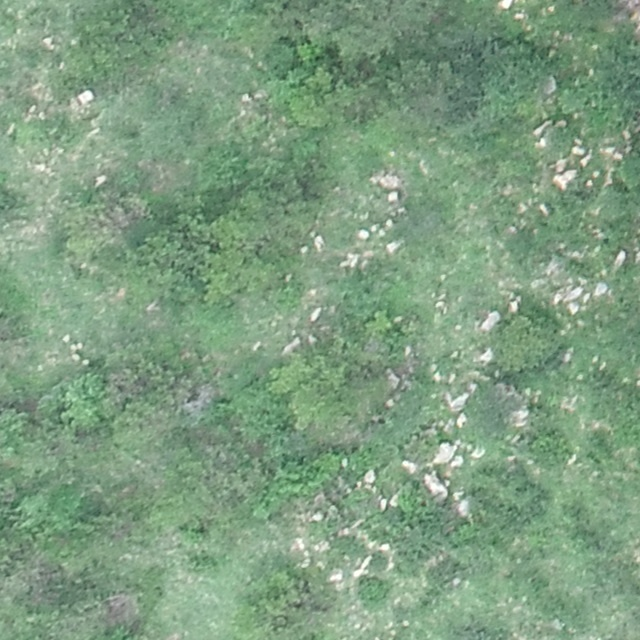unhealthy: (102, 589, 141, 627), (181, 381, 222, 415)
